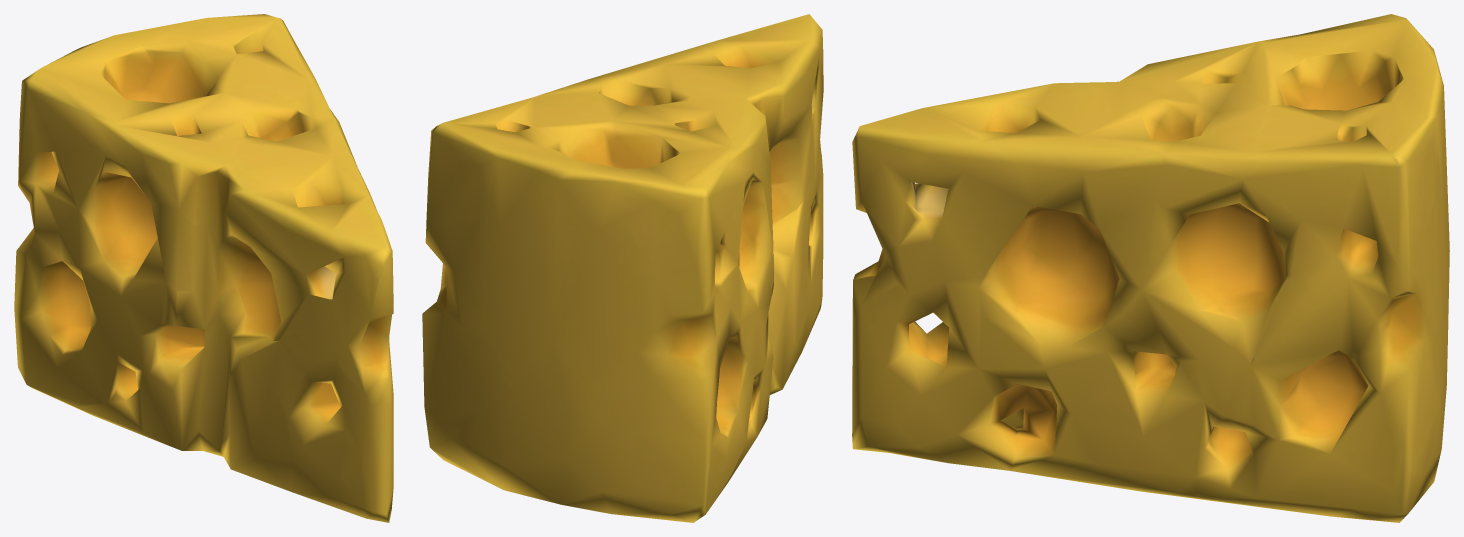
File: SM_Kitchen_Cheese.glb
3 views of the same model, side by side, from view 1: azimuth 30°, elevation 25°; view 2: azimuth 150°, elevation 25°; view 3: azimuth 270°, elevation 25° (orthographic). The views are drawn at different scales.
Parts seen in each view (by area): view 1: tripo_node_12b8d784-7d7c-4737-927d-1dd085625c39; view 2: tripo_node_12b8d784-7d7c-4737-927d-1dd085625c39; view 3: tripo_node_12b8d784-7d7c-4737-927d-1dd085625c39.
Boxes of the visible parts, box(x1,y1,x2,y2) form: tripo_node_12b8d784-7d7c-4737-927d-1dd085625c39: box(14, 14, 393, 522); tripo_node_12b8d784-7d7c-4737-927d-1dd085625c39: box(422, 14, 823, 522); tripo_node_12b8d784-7d7c-4737-927d-1dd085625c39: box(852, 14, 1449, 522).
Size of the model in its own units: 0.6085 by 0.6937 by 1.
1 material, 1 textured.
